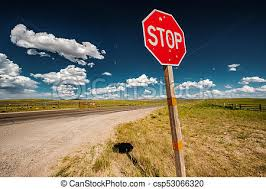Stop: (126, 4, 193, 71)
